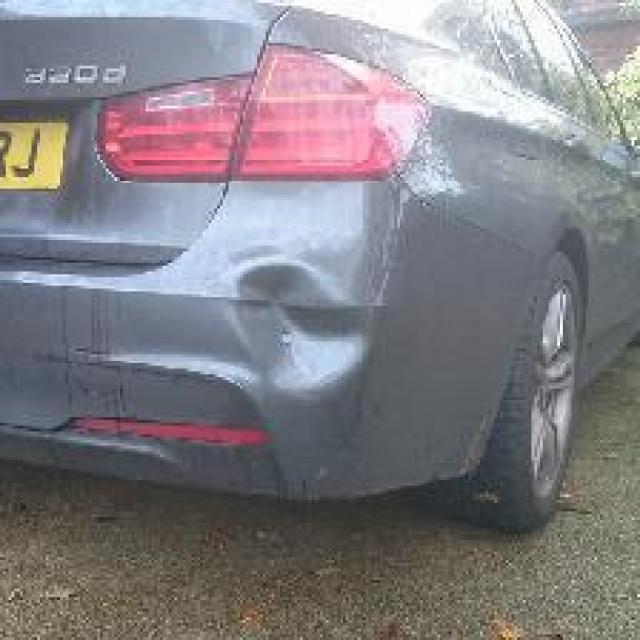damaged: (220, 257, 377, 394), (37, 286, 160, 448)
